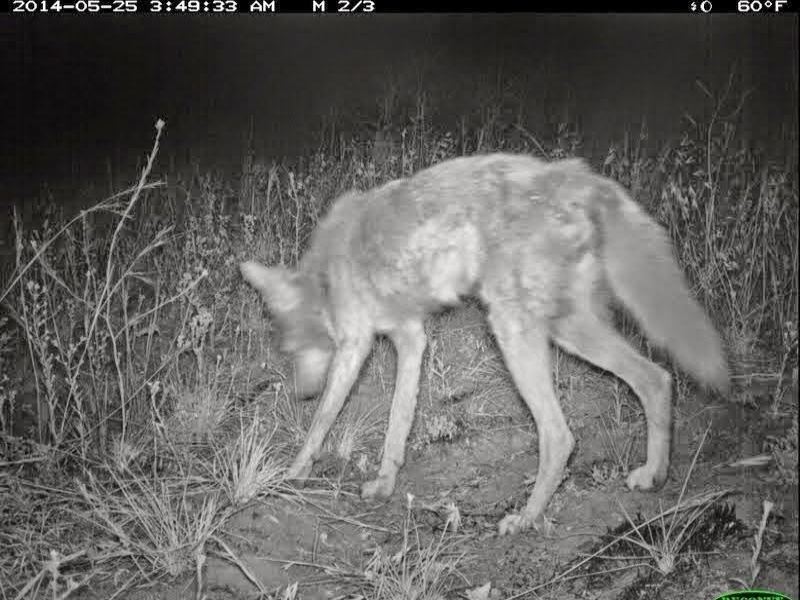coyote: (234, 147, 736, 545)
